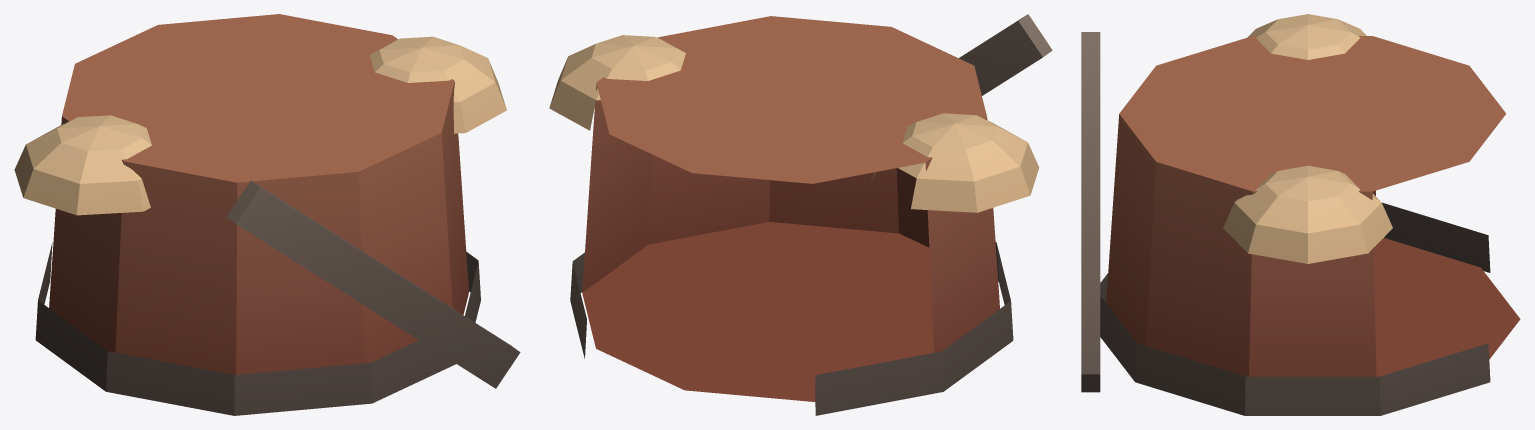
File: engineer_hunter_chest_t1.glb
The picture shows the model from 3 angles, left to right: view 1: azimuth 30°, elevation 25°; view 2: azimuth 150°, elevation 25°; view 3: azimuth 270°, elevation 25°; orthographic projection. The views are drawn at different scales.
Visible parts, largest first — view 1: engineer_hunter_chest_t1__chest; view 2: engineer_hunter_chest_t1__chest; view 3: engineer_hunter_chest_t1__chest.
Boxes of the visible parts, x1,y1,x2,y2 form: engineer_hunter_chest_t1__chest: (14,14,520,415); engineer_hunter_chest_t1__chest: (549,14,1052,415); engineer_hunter_chest_t1__chest: (1081,14,1520,415).
Size of the model in its own units: 1.12 by 0.5832 by 0.93.
Materials: 1 (1 with a texture image).
